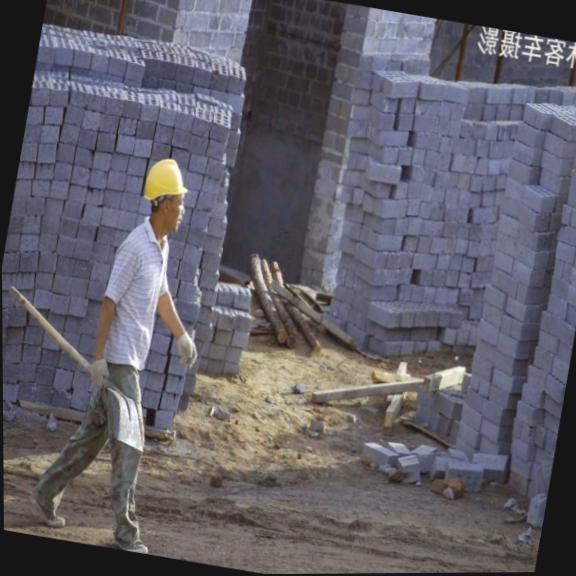no_safety_vest: (85, 225, 179, 392)
